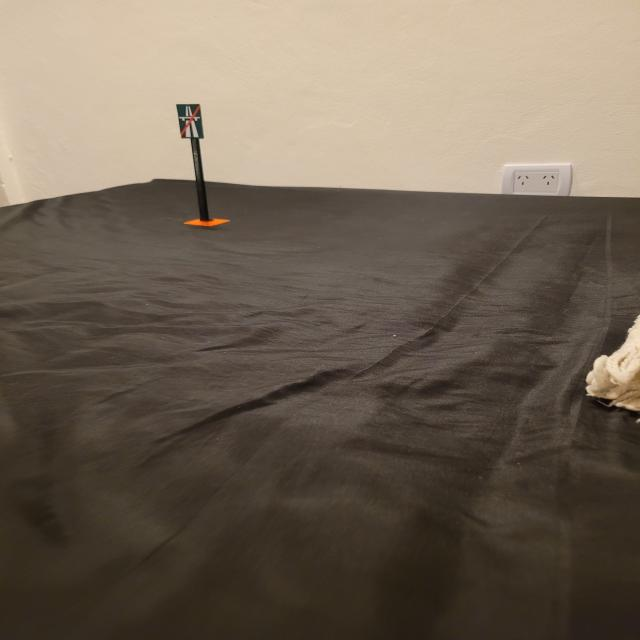highway_exit: (176, 104, 205, 138)
